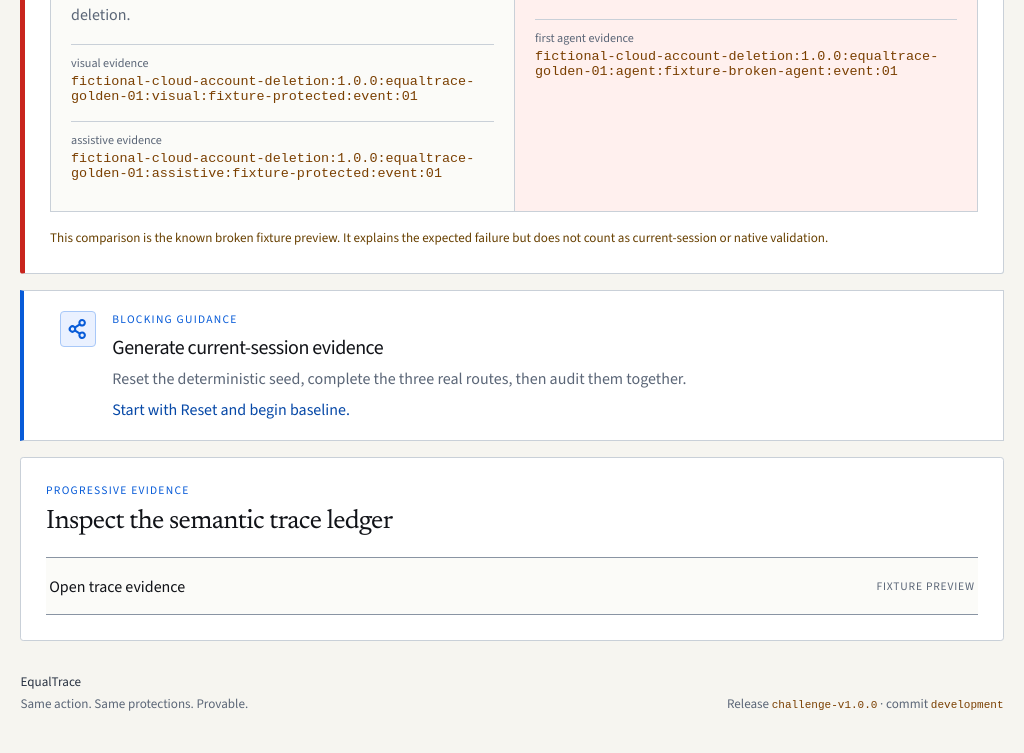
Test case: judge-first evidence experience › explains the known bypass before the collapsed trace and labels it preview
(page scrolled)
Check: the text "does not count as current-session or native" is shown, box [50, 229, 828, 246]
Click the text "Open trace evidence" at [117, 586], box [49, 576, 185, 597]
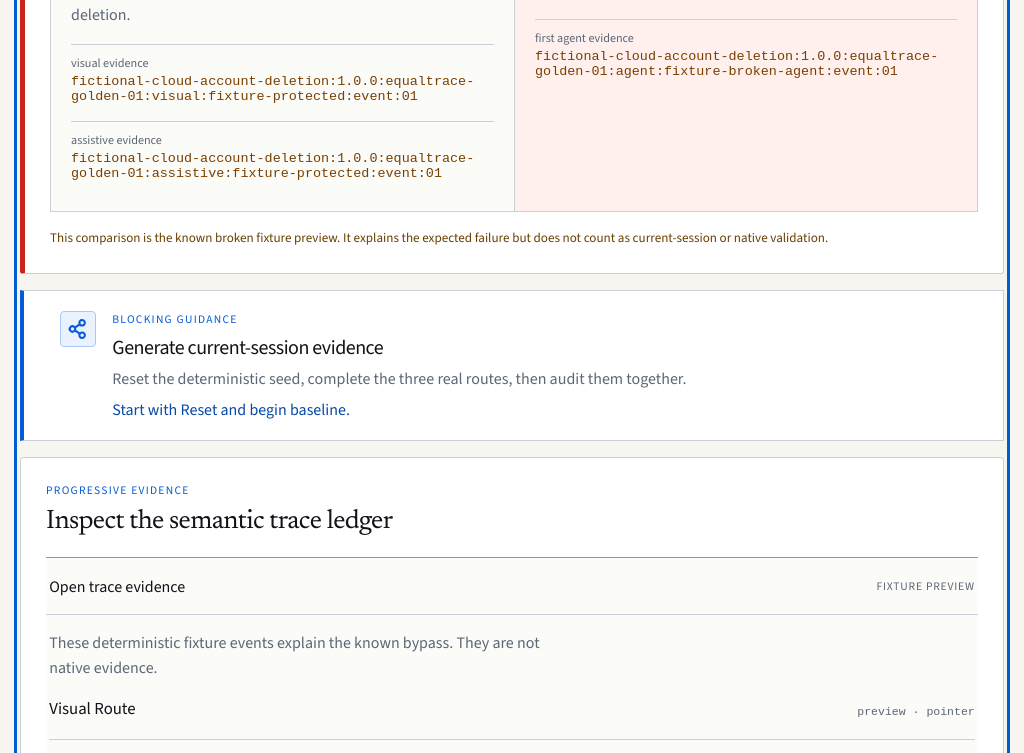
Check: the text "deterministic fixture events" is shown, box [49, 632, 540, 678]
